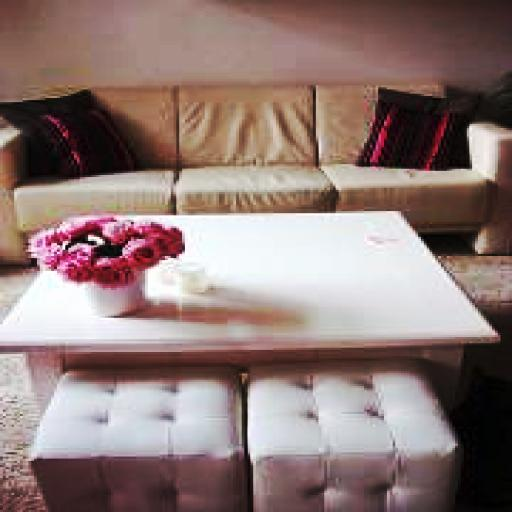rose: (125, 237, 165, 269), (51, 254, 91, 286), (91, 258, 134, 286), (102, 222, 134, 243)
